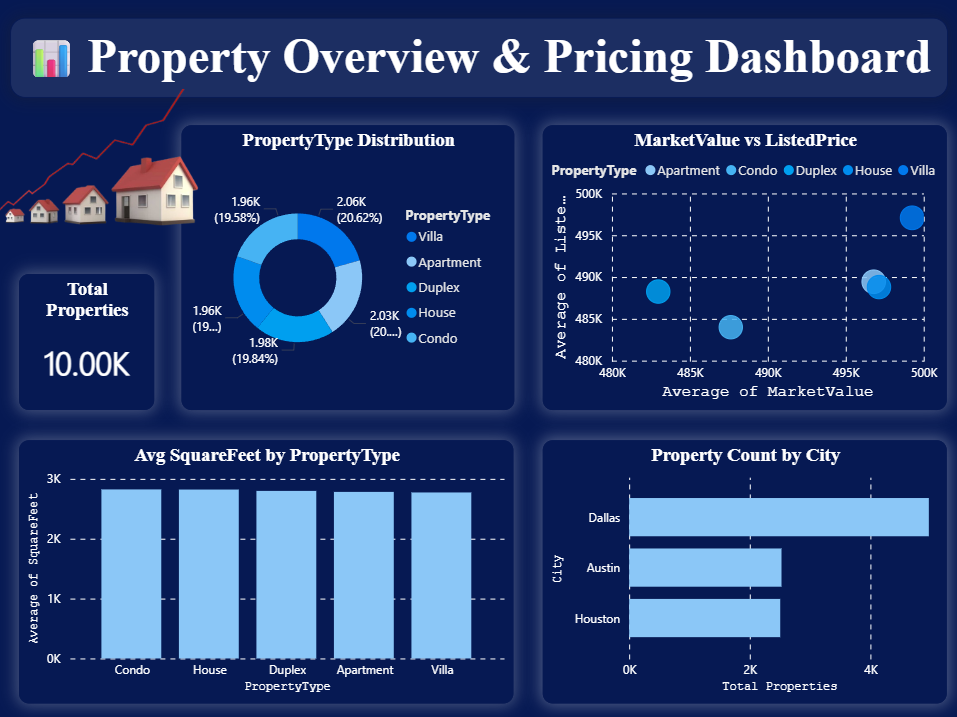

Layout of this report page (visuals, bound fields, positions):
{"tool":"powerbi","page":{"name":"Page 1","canvas":[960,720],"ordinal":0},"visuals":[{"type":"card","title":"Total Properties","fields":{"Values":["CountNonNull(Properties.PropertyID)"]},"box":[20.5,275.1,135.1,136.3],"z":0},{"type":"donutChart","title":"PropertyType Distribution","fields":{"Category":["Properties.PropertyType"],"Y":["CountNonNull(Properties.PropertyID)"]},"box":[182.2,126.7,333,284.7],"z":1000},{"type":"clusteredBarChart","title":"Property Count by City","fields":{"Category":["Properties.City"],"Y":["CountNonNull(Properties.PropertyID)"]},"box":[544.1,441.6,404.2,263],"z":2000},{"type":"scatterChart","title":"MarketValue vs ListedPrice","fields":{"X":["Avg(Properties.MarketValue)"],"Y":["Avg(Properties.ListedPrice)"],"Series":["Properties.PropertyType"],"Size":["Sum(Properties.SquareFeet)"]},"box":[544.1,126.7,404.2,284.7],"z":3000},{"type":"clusteredColumnChart","title":"Avg SquareFeet by PropertyType","fields":{"Category":["Properties.PropertyType"],"Y":["Avg(Properties.SquareFeet)"]},"box":[20.5,441.6,494.6,263],"z":4000},{"type":"textbox","box":[10.9,19.3,937.4,79.6],"z":5000},{"type":"image","box":[0,59.1,205.1,216],"z":6000}]}

Visuals, with their boxes in screenshot pixels (x1, y1, x2, y2), scaled from the page's 960x720 canvas onto the 957x717 screenshot:
"Total Properties" card: Rect(20, 274, 155, 410)
"PropertyType Distribution" donutChart: Rect(182, 126, 514, 410)
"Property Count by City" clusteredBarChart: Rect(542, 440, 945, 702)
"MarketValue vs ListedPrice" scatterChart: Rect(542, 126, 945, 410)
"Avg SquareFeet by PropertyType" clusteredColumnChart: Rect(20, 440, 513, 702)
textbox: Rect(11, 19, 945, 98)
image: Rect(0, 59, 204, 274)
